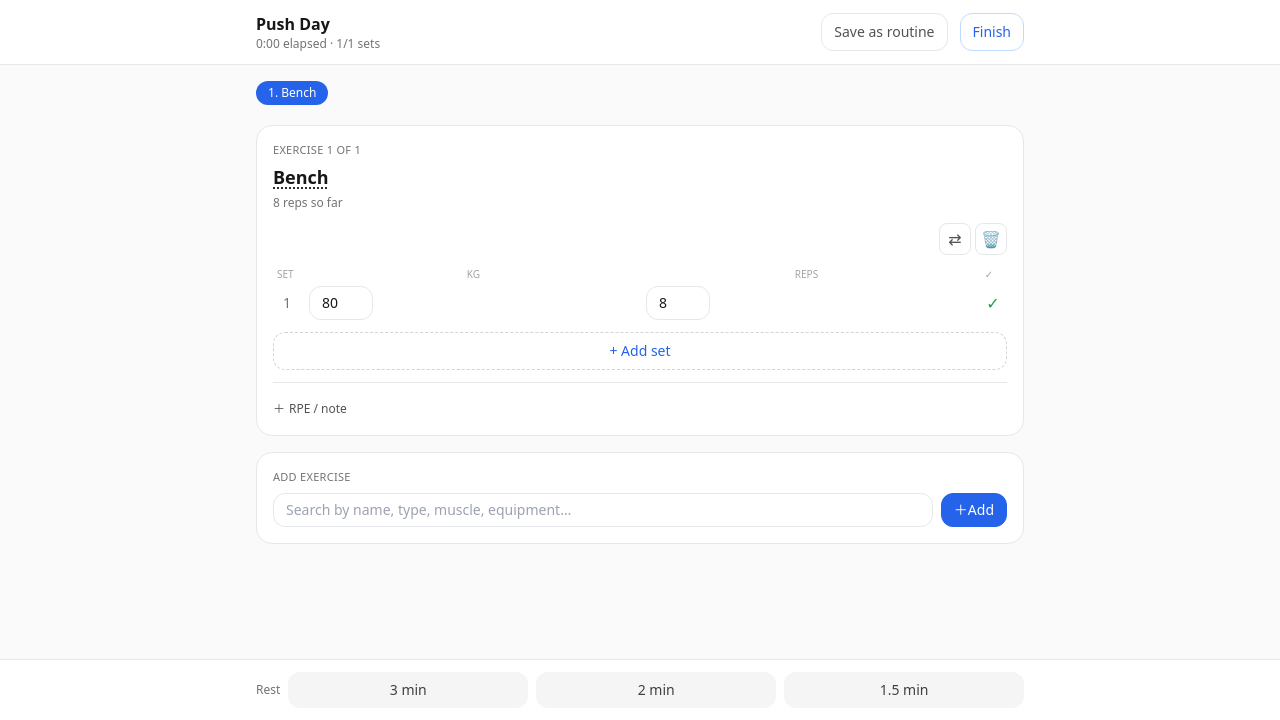
LiveSession › an added set starts unlogged until reps are entered
Click the button "+ Add set": [640, 350] box [273,332,1007,370]
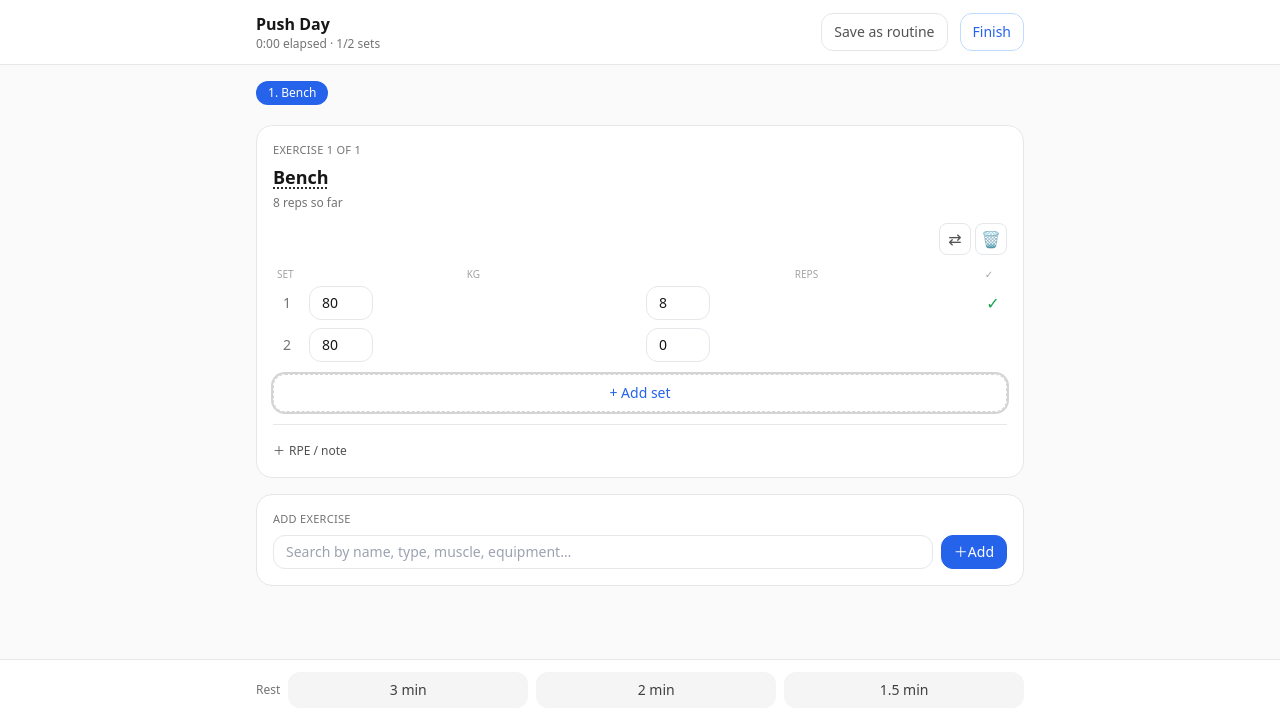
Check: the text "0:00 elapsed · 1/2 sets" is shown, box [256,35,380,52]
